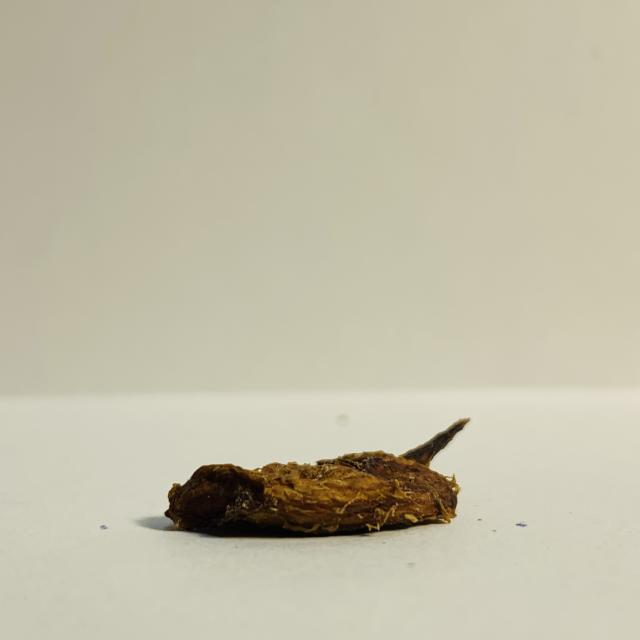Flat_cocoabeans: (101, 388, 552, 564)
